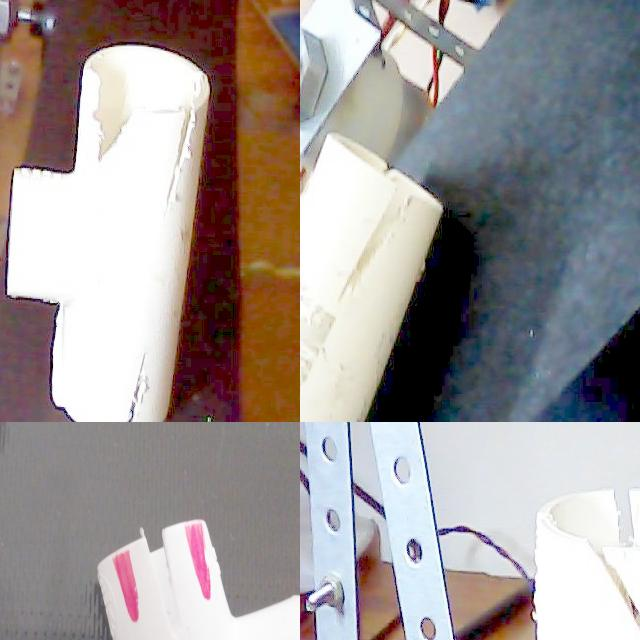Defective: (525, 484, 640, 640), (338, 166, 421, 297), (92, 280, 164, 422), (300, 233, 352, 418), (170, 54, 213, 234), (85, 52, 152, 167), (40, 256, 80, 414), (583, 532, 640, 640), (594, 489, 640, 551)
L Joint: (2, 422, 155, 479)
T Joint: (6, 45, 211, 422), (300, 134, 442, 422), (534, 487, 640, 640)
